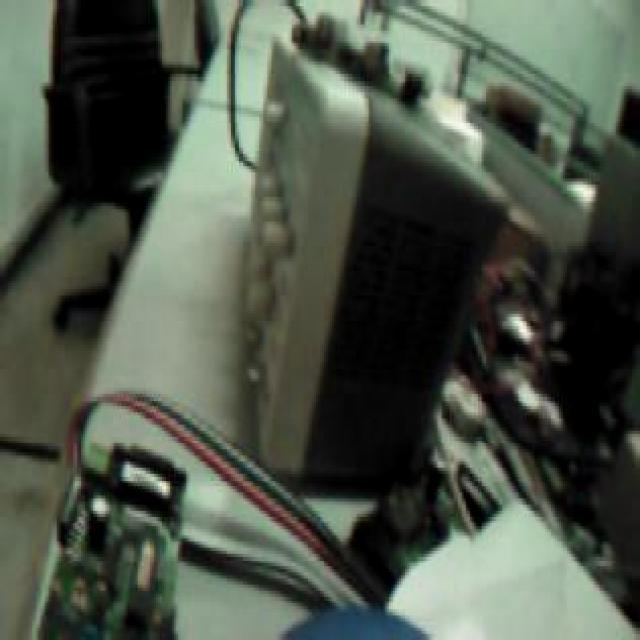BallPurple: (274, 601, 431, 640)
